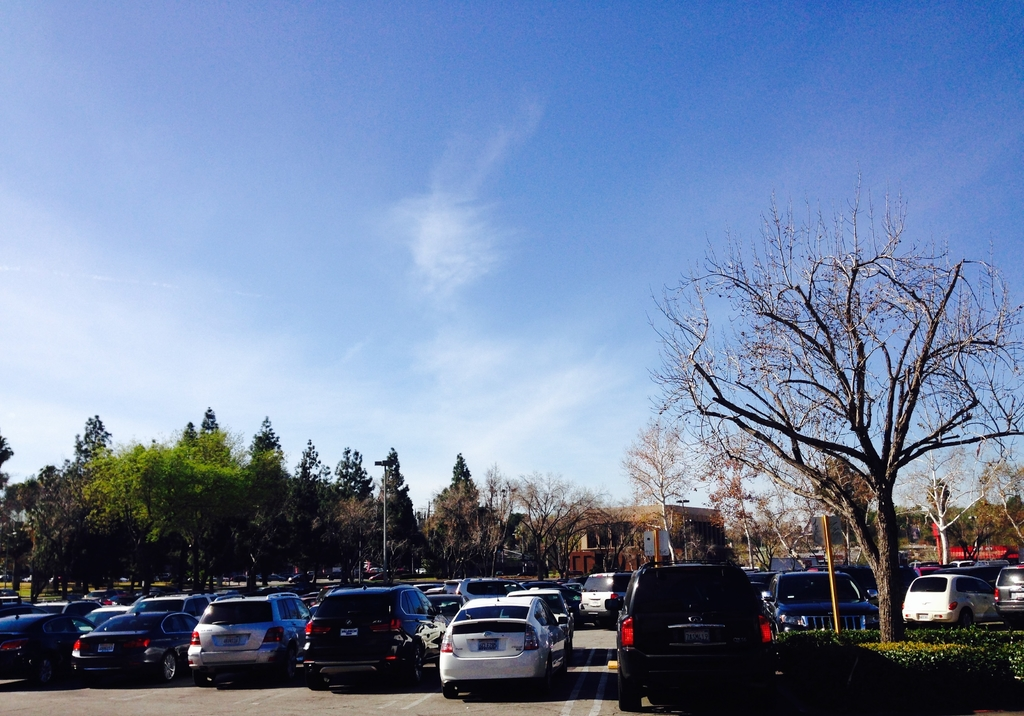Car: (0, 559, 1023, 714)
